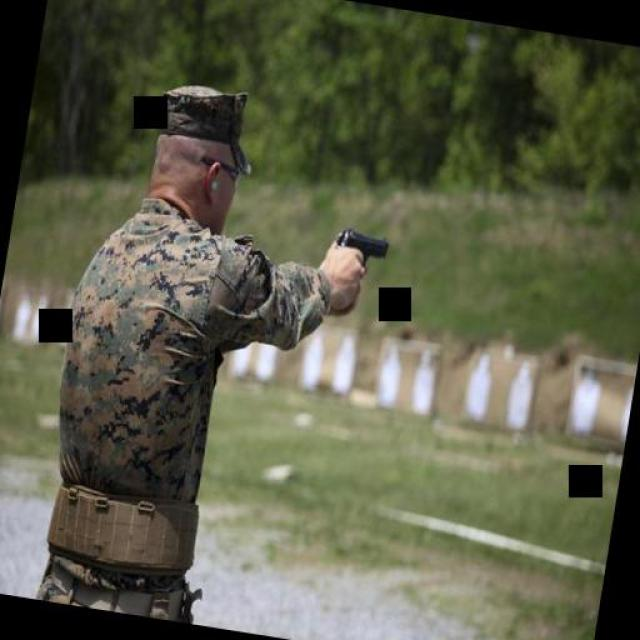gun: (326, 222, 390, 282)
